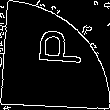P_W: (27, 35, 83, 75)
